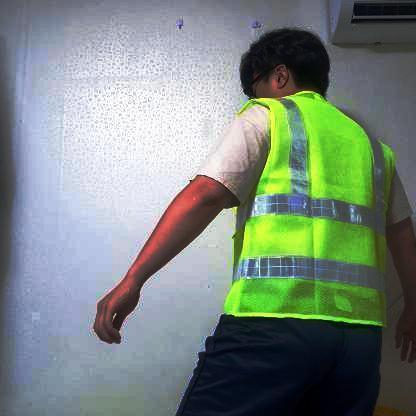no-helmet: (237, 25, 333, 99)
vest: (226, 90, 398, 330)
